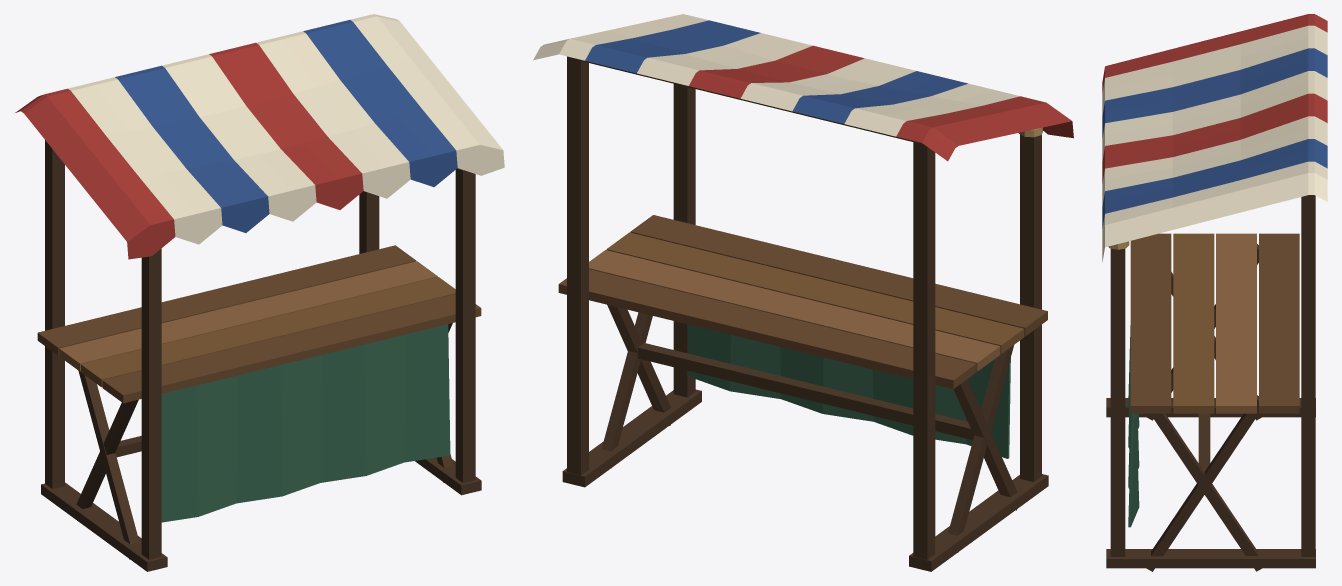
File: mdvl_village_stall_01.glb
3 renders of one model, left to right at view 1: azimuth 30°, elevation 25°; view 2: azimuth 150°, elevation 25°; view 3: azimuth 270°, elevation 25°, orthographic. The views are drawn at different scales.
Parts seen in each view (by area): view 1: mdvl_village_stall_01; view 2: mdvl_village_stall_01; view 3: mdvl_village_stall_01.
Boxes of the visible parts, left/top/right/bottom form: mdvl_village_stall_01: left=15, top=14, right=504, bottom=571; mdvl_village_stall_01: left=533, top=14, right=1073, bottom=571; mdvl_village_stall_01: left=1102, top=14, right=1327, bottom=571.
Size of the model in its own units: 2.23 by 2.3 by 1.17.
1 material, 1 textured.
